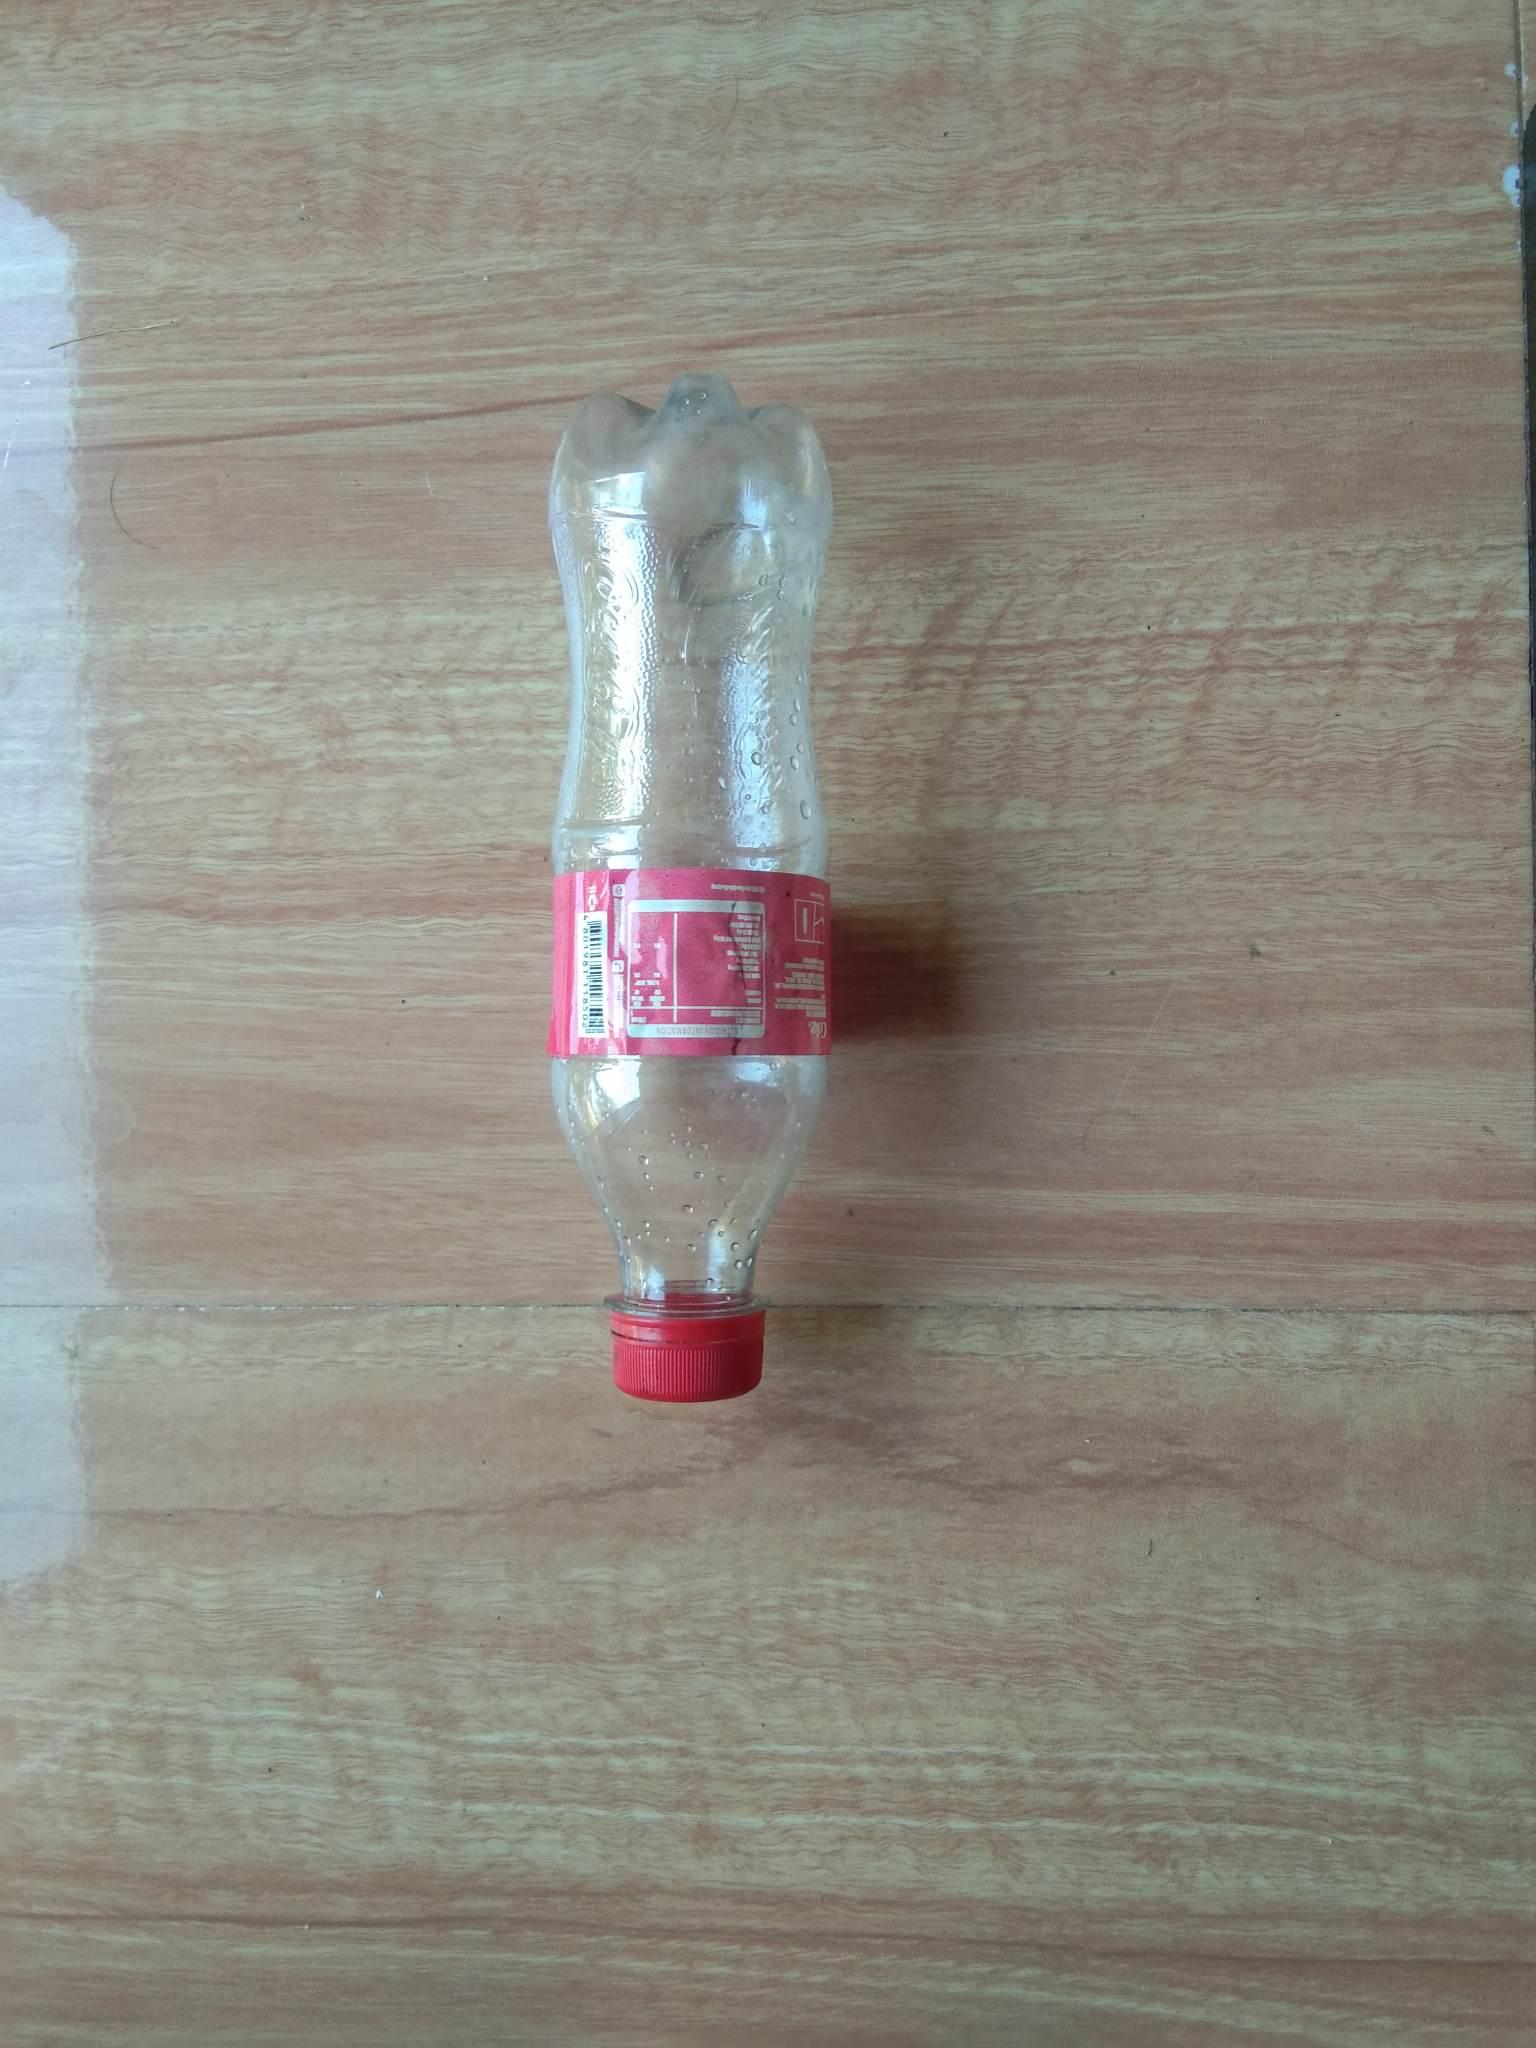plastic: (447, 361, 897, 1476)
